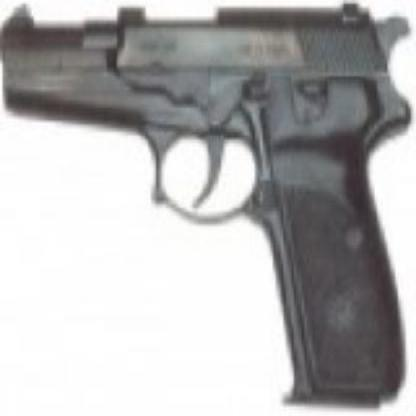pistol: (0, 0, 405, 409)
